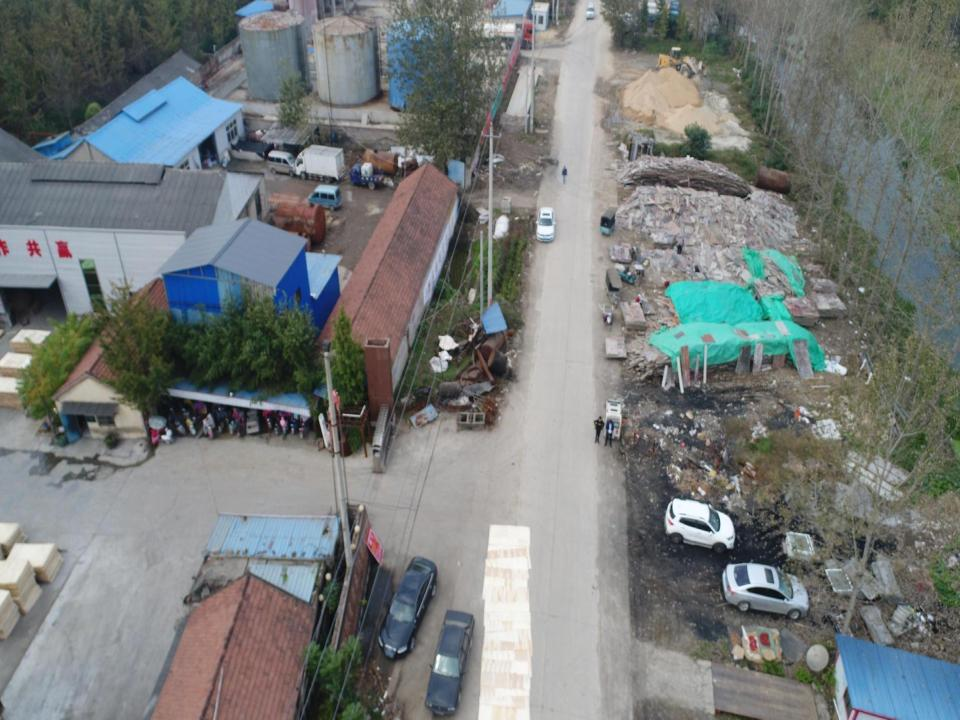car: (378, 554, 438, 660), (424, 602, 474, 716), (722, 558, 811, 622), (661, 497, 736, 554), (534, 204, 556, 243)
truck: (294, 144, 346, 183)
van: (307, 183, 342, 212), (585, 1, 596, 21)
